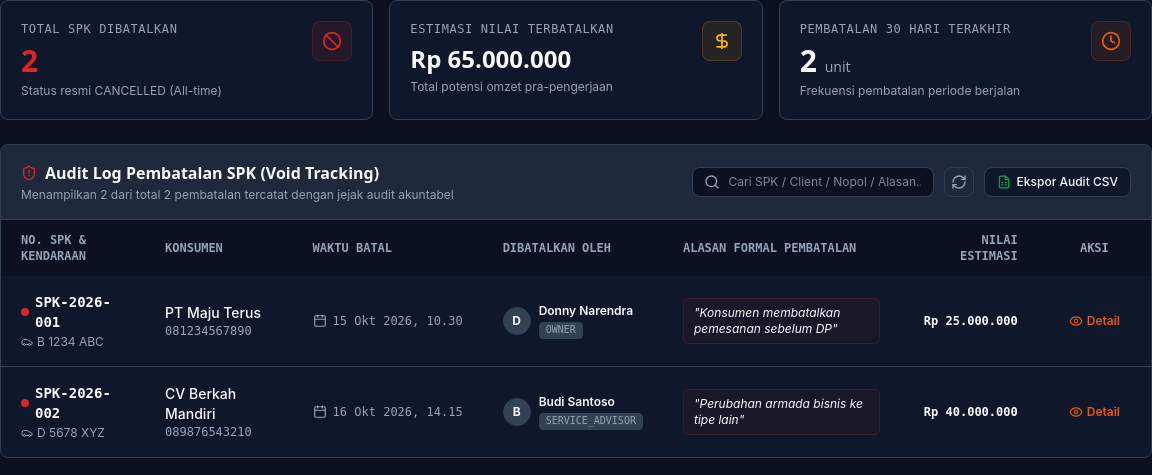
Test: Component: CancelledSpkAuditLog › filters records dynamically when typing into search input
The width and height of the screenshot is (1152, 475).
In the field named "Cari SPK Dibatalkan": (813, 182) [692, 167, 934, 197], type "Berkah"
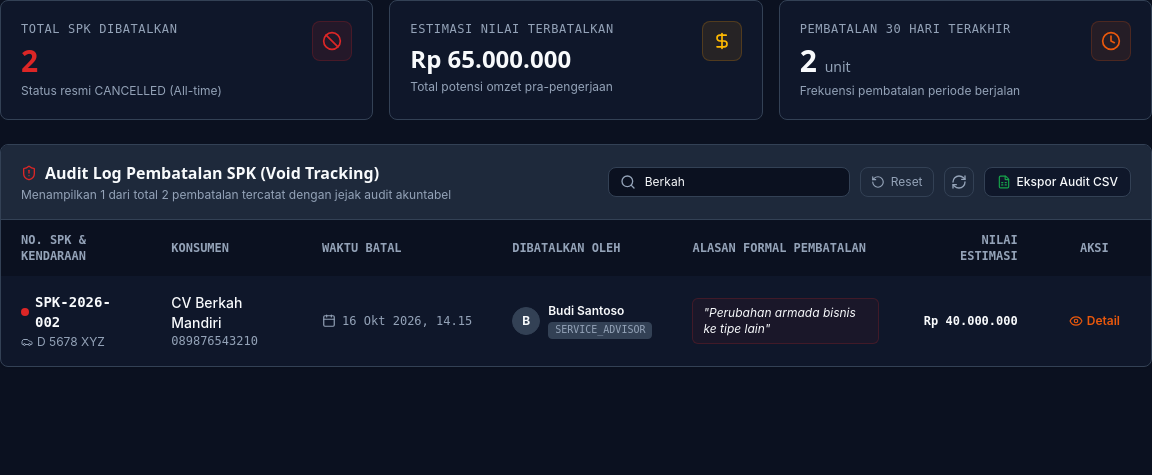
Expected: the text "SPK-2026-002" is shown, [21, 294, 111, 330]
Expected: the text "SPK-2026-001" is gone
Expected: the text "PT Maju Terus" is gone
Note: Clicking reset restores both
Click the button titled "Reset pencarian": (897, 182) [860, 167, 934, 197]
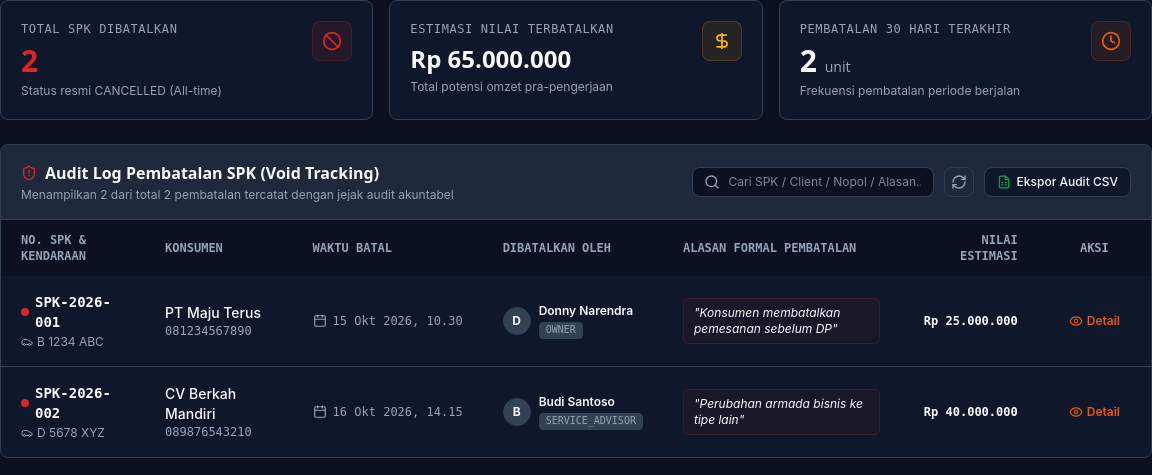
Expected: the text "SPK-2026-002" is shown, [21, 383, 125, 423]
Expected: the text "SPK-2026-001" is shown, [21, 292, 125, 332]
